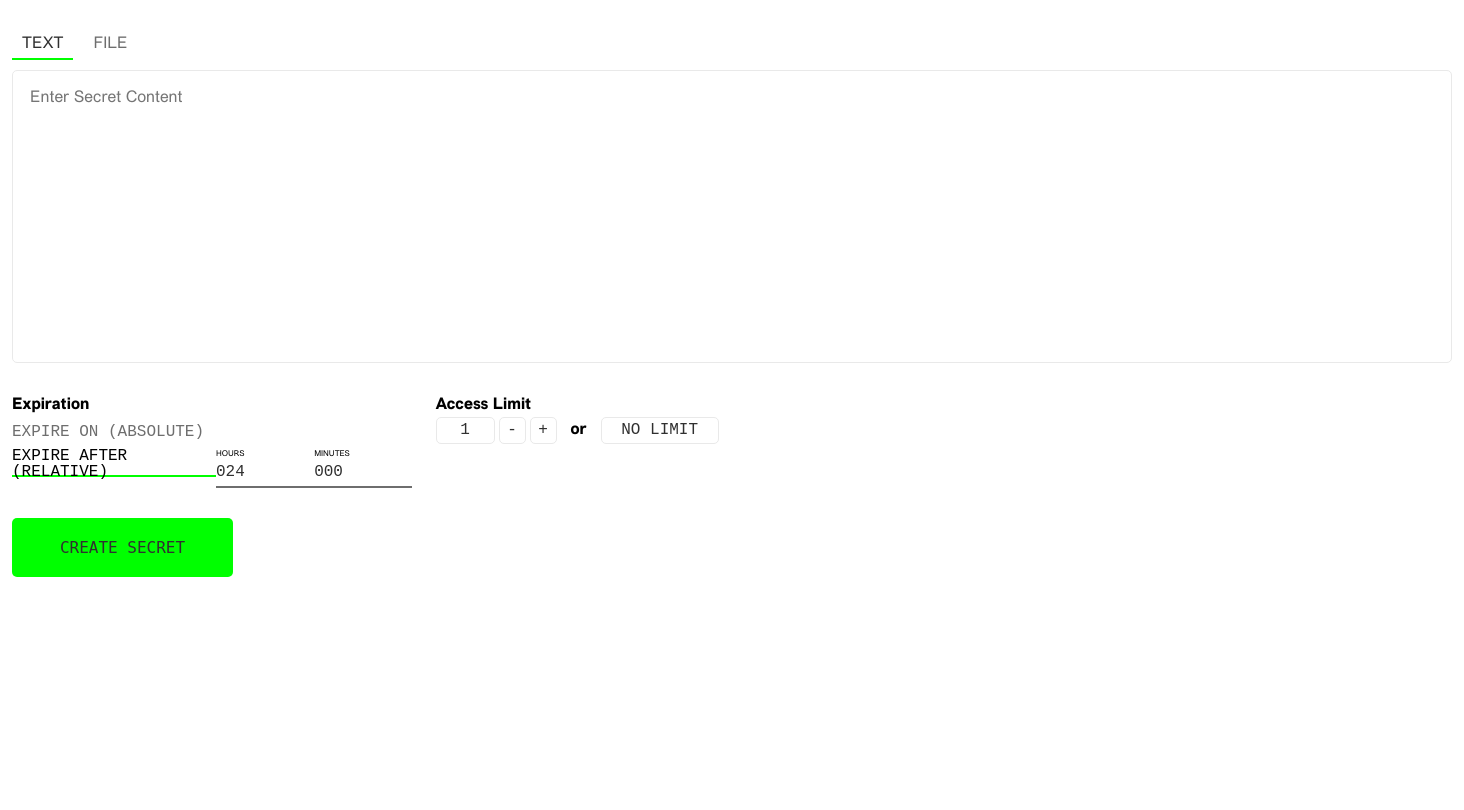
Test: When rendering CreateSecretForm › and setting expiration to absolute › should display absolute expiration date input field
The image size is (1464, 810).
Expected: the text box with test id "secret-content" is shown, [12,70,1452,363]
Click the button with test id "expiration-absolute-option".
click(114, 432)  # box [12,417,216,447]
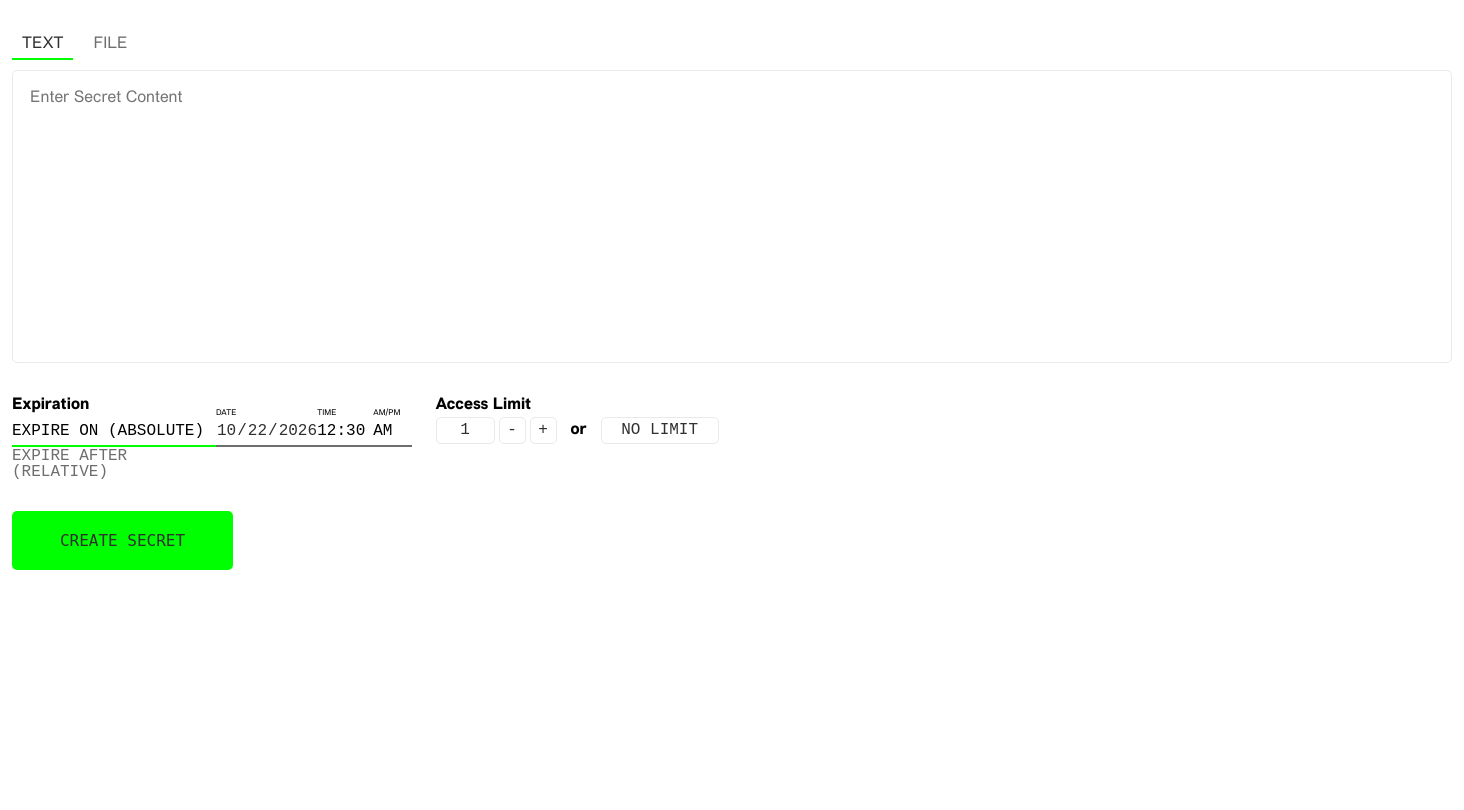
Expected: the button with test id "expiration-relative-option" is shown, [12,447,216,477]
Now the date field with test id "expiration-absolute-date" is shown, box [216,417,317,447]
